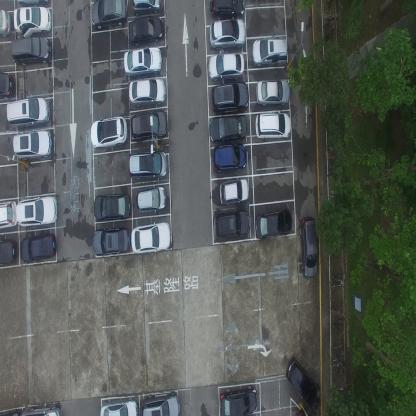car: (284, 353, 321, 412), (15, 191, 58, 226), (91, 112, 127, 152), (12, 128, 52, 162), (254, 206, 293, 240), (210, 80, 246, 116), (131, 220, 170, 253), (219, 383, 259, 415), (6, 97, 50, 126), (10, 36, 52, 66), (130, 109, 168, 142), (213, 207, 251, 240), (209, 17, 247, 50), (123, 44, 162, 76), (128, 148, 168, 179), (12, 6, 54, 35), (128, 76, 166, 108), (252, 34, 288, 67), (20, 228, 57, 260), (92, 190, 130, 221), (300, 213, 318, 278), (92, 224, 130, 254), (92, 0, 128, 31), (210, 141, 247, 171), (253, 110, 290, 140), (207, 111, 245, 140), (207, 51, 244, 80), (128, 14, 163, 44), (140, 391, 181, 416), (254, 80, 289, 107), (100, 394, 139, 416), (136, 184, 166, 212), (219, 177, 248, 204), (209, 0, 245, 18), (0, 193, 16, 228), (0, 236, 17, 266), (0, 70, 13, 100), (131, 0, 161, 12)
